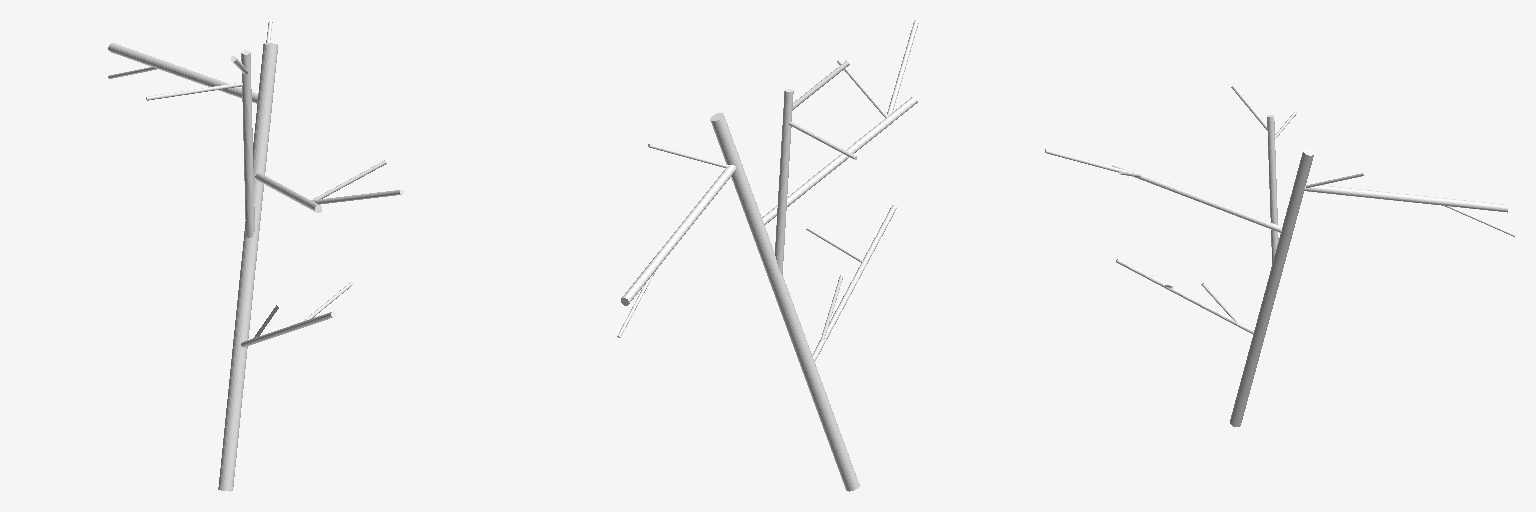
URDF robot description (tree_8.urdf):
<?xml version='1.0' encoding='UTF-8'?>
<robot name="tree_8.urdf">
  <link name="branch_0">
    <inertial>
      <origin xyz="0.0 0.0 0.0" rpy="0.0 -0.0 0.0"/>
      <mass value="1.0"/>
      <inertia ixx="1.0" ixy="0.0" ixz="0.0" iyy="1.0" iyz="0.0" izz="1.0"/>
    </inertial>
    <visual name="branch_0_visual">
      <geometry>
        <cylinder radius="0.16124916375305914" length="9.738086074942675"/>
      </geometry>
      <material name="branch_material"/>
      <origin xyz="1.1422231327363268 1.003951476858405 4.625471635185319" rpy="-4.16947767065587e-17 0.31763885566971284 0.7210600542264138"/>
    </visual>
    <collision name="branch_0_collision">
      <geometry>
        <cylinder radius="0.16124916375305914" length="9.738086074942675"/>
      </geometry>
      <origin xyz="1.1422231327363268 1.003951476858405 4.625471635185319" rpy="-4.16947767065587e-17 0.31763885566971284 0.7210600542264138"/>
    </collision>
  </link>
  <link name="branch_1">
    <inertial>
      <origin xyz="0.0 0.0 0.0" rpy="0.0 -0.0 0.0"/>
      <mass value="1.0"/>
      <inertia ixx="1.0" ixy="0.0" ixz="0.0" iyy="1.0" iyz="0.0" izz="1.0"/>
    </inertial>
    <visual name="branch_1_visual">
      <geometry>
        <cylinder radius="0.10053643574830358" length="4.647175800809774"/>
      </geometry>
      <material name="branch_material"/>
      <origin xyz="0.0 0.0 0.0" rpy="0.0 -0.0 0.0"/>
    </visual>
    <collision name="branch_1_collision">
      <geometry>
        <cylinder radius="0.10053643574830358" length="4.647175800809774"/>
      </geometry>
      <origin xyz="0.0 0.0 0.0" rpy="0.0 -0.0 0.0"/>
    </collision>
  </link>
  <link name="branch_2">
    <inertial>
      <origin xyz="0.0 0.0 0.0" rpy="0.0 -0.0 0.0"/>
      <mass value="1.0"/>
      <inertia ixx="1.0" ixy="0.0" ixz="0.0" iyy="1.0" iyz="0.0" izz="1.0"/>
    </inertial>
    <visual name="branch_2_visual">
      <geometry>
        <cylinder radius="0.044126114158561484" length="2.216430386662047"/>
      </geometry>
      <material name="branch_material"/>
      <origin xyz="0.0 0.0 0.0" rpy="0.0 -0.0 0.0"/>
    </visual>
    <collision name="branch_2_collision">
      <geometry>
        <cylinder radius="0.044126114158561484" length="2.216430386662047"/>
      </geometry>
      <origin xyz="0.0 0.0 0.0" rpy="0.0 -0.0 0.0"/>
    </collision>
  </link>
  <link name="branch_3">
    <inertial>
      <origin xyz="0.0 0.0 0.0" rpy="0.0 -0.0 0.0"/>
      <mass value="1.0"/>
      <inertia ixx="1.0" ixy="0.0" ixz="0.0" iyy="1.0" iyz="0.0" izz="1.0"/>
    </inertial>
    <visual name="branch_3_visual">
      <geometry>
        <cylinder radius="0.06014057503598517" length="1.6924092892110687"/>
      </geometry>
      <material name="branch_material"/>
      <origin xyz="0.0 0.0 0.0" rpy="0.0 -0.0 0.0"/>
    </visual>
    <collision name="branch_3_collision">
      <geometry>
        <cylinder radius="0.06014057503598517" length="1.6924092892110687"/>
      </geometry>
      <origin xyz="0.0 0.0 0.0" rpy="0.0 -0.0 0.0"/>
    </collision>
  </link>
  <link name="branch_4">
    <inertial>
      <origin xyz="0.0 0.0 0.0" rpy="0.0 -0.0 0.0"/>
      <mass value="1.0"/>
      <inertia ixx="1.0" ixy="0.0" ixz="0.0" iyy="1.0" iyz="0.0" izz="1.0"/>
    </inertial>
    <visual name="branch_4_visual">
      <geometry>
        <cylinder radius="0.1044348591139515" length="5.787427318739213"/>
      </geometry>
      <material name="branch_material"/>
      <origin xyz="0.0 0.0 0.0" rpy="0.0 -0.0 0.0"/>
    </visual>
    <collision name="branch_4_collision">
      <geometry>
        <cylinder radius="0.1044348591139515" length="5.787427318739213"/>
      </geometry>
      <origin xyz="0.0 0.0 0.0" rpy="0.0 -0.0 0.0"/>
    </collision>
  </link>
  <link name="branch_5">
    <inertial>
      <origin xyz="0.0 0.0 0.0" rpy="0.0 -0.0 0.0"/>
      <mass value="1.0"/>
      <inertia ixx="1.0" ixy="0.0" ixz="0.0" iyy="1.0" iyz="0.0" izz="1.0"/>
    </inertial>
    <visual name="branch_5_visual">
      <geometry>
        <cylinder radius="0.042356616605368255" length="2.218163051504877"/>
      </geometry>
      <material name="branch_material"/>
      <origin xyz="0.0 0.0 0.0" rpy="0.0 -0.0 0.0"/>
    </visual>
    <collision name="branch_5_collision">
      <geometry>
        <cylinder radius="0.042356616605368255" length="2.218163051504877"/>
      </geometry>
      <origin xyz="0.0 0.0 0.0" rpy="0.0 -0.0 0.0"/>
    </collision>
  </link>
  <link name="branch_6">
    <inertial>
      <origin xyz="0.0 0.0 0.0" rpy="0.0 -0.0 0.0"/>
      <mass value="1.0"/>
      <inertia ixx="1.0" ixy="0.0" ixz="0.0" iyy="1.0" iyz="0.0" izz="1.0"/>
    </inertial>
    <visual name="branch_6_visual">
      <geometry>
        <cylinder radius="0.04" length="2.4022249716884736"/>
      </geometry>
      <material name="branch_material"/>
      <origin xyz="0.0 0.0 0.0" rpy="0.0 -0.0 0.0"/>
    </visual>
    <collision name="branch_6_collision">
      <geometry>
        <cylinder radius="0.04" length="2.4022249716884736"/>
      </geometry>
      <origin xyz="0.0 0.0 0.0" rpy="0.0 -0.0 0.0"/>
    </collision>
  </link>
  <link name="branch_7">
    <inertial>
      <origin xyz="0.0 0.0 0.0" rpy="0.0 -0.0 0.0"/>
      <mass value="1.0"/>
      <inertia ixx="1.0" ixy="0.0" ixz="0.0" iyy="1.0" iyz="0.0" izz="1.0"/>
    </inertial>
    <visual name="branch_7_visual">
      <geometry>
        <cylinder radius="0.06244797578172336" length="4.51410747335385"/>
      </geometry>
      <material name="branch_material"/>
      <origin xyz="0.0 0.0 0.0" rpy="0.0 -0.0 0.0"/>
    </visual>
    <collision name="branch_7_collision">
      <geometry>
        <cylinder radius="0.06244797578172336" length="4.51410747335385"/>
      </geometry>
      <origin xyz="0.0 0.0 0.0" rpy="0.0 -0.0 0.0"/>
    </collision>
  </link>
  <link name="branch_8">
    <inertial>
      <origin xyz="0.0 0.0 0.0" rpy="0.0 -0.0 0.0"/>
      <mass value="1.0"/>
      <inertia ixx="1.0" ixy="0.0" ixz="0.0" iyy="1.0" iyz="0.0" izz="1.0"/>
    </inertial>
    <visual name="branch_8_visual">
      <geometry>
        <cylinder radius="0.04" length="1.4889015954662033"/>
      </geometry>
      <material name="branch_material"/>
      <origin xyz="0.0 0.0 0.0" rpy="0.0 -0.0 0.0"/>
    </visual>
    <collision name="branch_8_collision">
      <geometry>
        <cylinder radius="0.04" length="1.4889015954662033"/>
      </geometry>
      <origin xyz="0.0 0.0 0.0" rpy="0.0 -0.0 0.0"/>
    </collision>
  </link>
  <link name="branch_9">
    <inertial>
      <origin xyz="0.0 0.0 0.0" rpy="0.0 -0.0 0.0"/>
      <mass value="1.0"/>
      <inertia ixx="1.0" ixy="0.0" ixz="0.0" iyy="1.0" iyz="0.0" izz="1.0"/>
    </inertial>
    <visual name="branch_9_visual">
      <geometry>
        <cylinder radius="0.04" length="1.6058377141683808"/>
      </geometry>
      <material name="branch_material"/>
      <origin xyz="0.0 0.0 0.0" rpy="0.0 -0.0 0.0"/>
    </visual>
    <collision name="branch_9_collision">
      <geometry>
        <cylinder radius="0.04" length="1.6058377141683808"/>
      </geometry>
      <origin xyz="0.0 0.0 0.0" rpy="0.0 -0.0 0.0"/>
    </collision>
  </link>
  <link name="branch_10">
    <inertial>
      <origin xyz="0.0 0.0 0.0" rpy="0.0 -0.0 0.0"/>
      <mass value="1.0"/>
      <inertia ixx="1.0" ixy="0.0" ixz="0.0" iyy="1.0" iyz="0.0" izz="1.0"/>
    </inertial>
    <visual name="branch_10_visual">
      <geometry>
        <cylinder radius="0.08719894301178978" length="5.132908426845456"/>
      </geometry>
      <material name="branch_material"/>
      <origin xyz="0.0 0.0 0.0" rpy="0.0 -0.0 0.0"/>
    </visual>
    <collision name="branch_10_collision">
      <geometry>
        <cylinder radius="0.08719894301178978" length="5.132908426845456"/>
      </geometry>
      <origin xyz="0.0 0.0 0.0" rpy="0.0 -0.0 0.0"/>
    </collision>
  </link>
  <link name="branch_11">
    <inertial>
      <origin xyz="0.0 0.0 0.0" rpy="0.0 -0.0 0.0"/>
      <mass value="1.0"/>
      <inertia ixx="1.0" ixy="0.0" ixz="0.0" iyy="1.0" iyz="0.0" izz="1.0"/>
    </inertial>
    <visual name="branch_11_visual">
      <geometry>
        <cylinder radius="0.05583219375641421" length="3.0114886582117237"/>
      </geometry>
      <material name="branch_material"/>
      <origin xyz="0.0 0.0 0.0" rpy="0.0 -0.0 0.0"/>
    </visual>
    <collision name="branch_11_collision">
      <geometry>
        <cylinder radius="0.05583219375641421" length="3.0114886582117237"/>
      </geometry>
      <origin xyz="0.0 0.0 0.0" rpy="0.0 -0.0 0.0"/>
    </collision>
  </link>
  <link name="branch_12">
    <inertial>
      <origin xyz="0.0 0.0 0.0" rpy="0.0 -0.0 0.0"/>
      <mass value="1.0"/>
      <inertia ixx="1.0" ixy="0.0" ixz="0.0" iyy="1.0" iyz="0.0" izz="1.0"/>
    </inertial>
    <visual name="branch_12_visual">
      <geometry>
        <cylinder radius="0.04473913101133952" length="1.8898721220505987"/>
      </geometry>
      <material name="branch_material"/>
      <origin xyz="0.0 0.0 0.0" rpy="0.0 -0.0 0.0"/>
    </visual>
    <collision name="branch_12_collision">
      <geometry>
        <cylinder radius="0.04473913101133952" length="1.8898721220505987"/>
      </geometry>
      <origin xyz="0.0 0.0 0.0" rpy="0.0 -0.0 0.0"/>
    </collision>
  </link>
  <joint name="joint_0_1" type="fixed">
    <parent link="branch_0"/>
    <child link="branch_1"/>
    <axis xyz="1. 0. 0."/>
    <origin xyz="1.1617354105918503 1.0373117132944385 7.4410869440692196" rpy="0.004508891953062123 0.05441551965074845 -2.433981970414082"/>
  </joint>
  <joint name="joint_0_4" type="fixed">
    <parent link="branch_0"/>
    <child link="branch_4"/>
    <axis xyz="1. 0. 0."/>
    <origin xyz="1.7352942802175357 4.596229700100119 7.608691480486497" rpy="2.1279489466077344 1.2729102441741391 -2.5153000426064693"/>
  </joint>
  <joint name="joint_0_7" type="fixed">
    <parent link="branch_0"/>
    <child link="branch_7"/>
    <axis xyz="1. 0. 0."/>
    <origin xyz="0.7772378228279597 -1.2923136850387156 4.145546351158775" rpy="-0.40146057924827594 0.9853412026932885 -2.022833999257805"/>
  </joint>
  <joint name="joint_0_10" type="fixed">
    <parent link="branch_0"/>
    <child link="branch_10"/>
    <axis xyz="1. 0. 0."/>
    <origin xyz="0.9895279895225517 -0.9716215807581151 7.230257417936576" rpy="-0.5431199881019141 1.2390245357806955 -2.3929967081328356"/>
  </joint>
  <joint name="joint_1_2" type="fixed">
    <parent link="branch_0"/>
    <child link="branch_2"/>
    <axis xyz="1. 0. 0."/>
    <origin xyz="0.03522535507529923 1.3132308153399725 8.939099926874482" rpy="-2.5011730536594214 1.4979523309332805 0.34269175562518905"/>
  </joint>
  <joint name="joint_1_3" type="fixed">
    <parent link="branch_0"/>
    <child link="branch_3"/>
    <axis xyz="1. 0. 0."/>
    <origin xyz="0.618280553428997 0.4578414394359166 9.75264741450553" rpy="0.021803635896324933 0.9666121754349509 -2.2701396684002773"/>
  </joint>
  <joint name="joint_4_5" type="fixed">
    <parent link="branch_0"/>
    <child link="branch_5"/>
    <axis xyz="1. 0. 0."/>
    <origin xyz="2.562660542167819 2.698969363773273 8.505187921588162" rpy="-1.0518359709168137 -0.5524552418075516 -0.9118356586129767"/>
  </joint>
  <joint name="joint_4_6" type="fixed">
    <parent link="branch_0"/>
    <child link="branch_6"/>
    <axis xyz="1. 0. 0."/>
    <origin xyz="1.5902445332262867 6.568250693228968 6.916987796717782" rpy="-2.965475611348232 1.0881221289811924 -1.3124848925595387"/>
  </joint>
  <joint name="joint_7_8" type="fixed">
    <parent link="branch_0"/>
    <child link="branch_8"/>
    <axis xyz="1. 0. 0."/>
    <origin xyz="1.4648607498002444 -1.7967101530435488 4.794949345113983" rpy="1.1018118420957141 0.48522827861267526 1.4723784942367313"/>
  </joint>
  <joint name="joint_7_9" type="fixed">
    <parent link="branch_0"/>
    <child link="branch_9"/>
    <axis xyz="1. 0. 0."/>
    <origin xyz="0.7756570371197741 -0.39819271722591176 3.9481795666127257" rpy="0.0596802123766185 -0.6725252668038257 1.525048262770499"/>
  </joint>
  <joint name="joint_10_11" type="fixed">
    <parent link="branch_0"/>
    <child link="branch_11"/>
    <axis xyz="1. 0. 0."/>
    <origin xyz="0.985316248403059 -3.858242340795627 8.27473130977718" rpy="1.1744191287298036 -0.106489868715348 0.33579060628140545"/>
  </joint>
  <joint name="joint_10_12" type="fixed">
    <parent link="branch_0"/>
    <child link="branch_12"/>
    <axis xyz="1. 0. 0."/>
    <origin xyz="1.3689190137594982 -2.867524770054486 8.138255509356155" rpy="1.098720984108607 0.19974940550933434 1.141196710689335"/>
  </joint>
  <material name="branch_material">
    <color rgba="1. 1. 1. 1."/>
  </material>
</robot>

--- What the picture shows (computed from the rendered views, not written in the file) ---
3 views of the same robot in one strip: view 1: azimuth 30°, elevation 25°; view 2: azimuth 150°, elevation 25°; view 3: azimuth 270°, elevation 25° (orthographic).
Robot: tree_8.urdf — 13 links, 12 joints (12 fixed); root link branch_0; default pose: every joint at zero.
Links seen in each view (by area): view 1: branch_0, branch_1, branch_4, branch_10, branch_7; view 2: branch_0, branch_4, branch_1, branch_10, branch_7; view 3: branch_0, branch_4, branch_10, branch_1, branch_7.
Link boxes in pixels (bbox=[...]): branch_0: bbox=[218, 43, 277, 491]; branch_1: bbox=[241, 50, 254, 237]; branch_4: bbox=[108, 43, 257, 103]; branch_10: bbox=[255, 173, 321, 212]; branch_7: bbox=[241, 312, 335, 347]; branch_0: bbox=[710, 113, 859, 491]; branch_4: bbox=[621, 165, 735, 305]; branch_1: bbox=[775, 89, 793, 274]; branch_10: bbox=[762, 97, 917, 224]; branch_7: bbox=[812, 205, 896, 361]; branch_0: bbox=[1230, 148, 1314, 426]; branch_4: bbox=[1304, 184, 1508, 212]; branch_10: bbox=[1112, 163, 1281, 232]; branch_1: bbox=[1267, 115, 1278, 263]; branch_7: bbox=[1116, 259, 1253, 334].
Bounding box of the posed robot: 4.22 × 12.87 × 10.33 m (x, y, z).
Geometry: primitives only (box / cylinder / sphere), no mesh files.